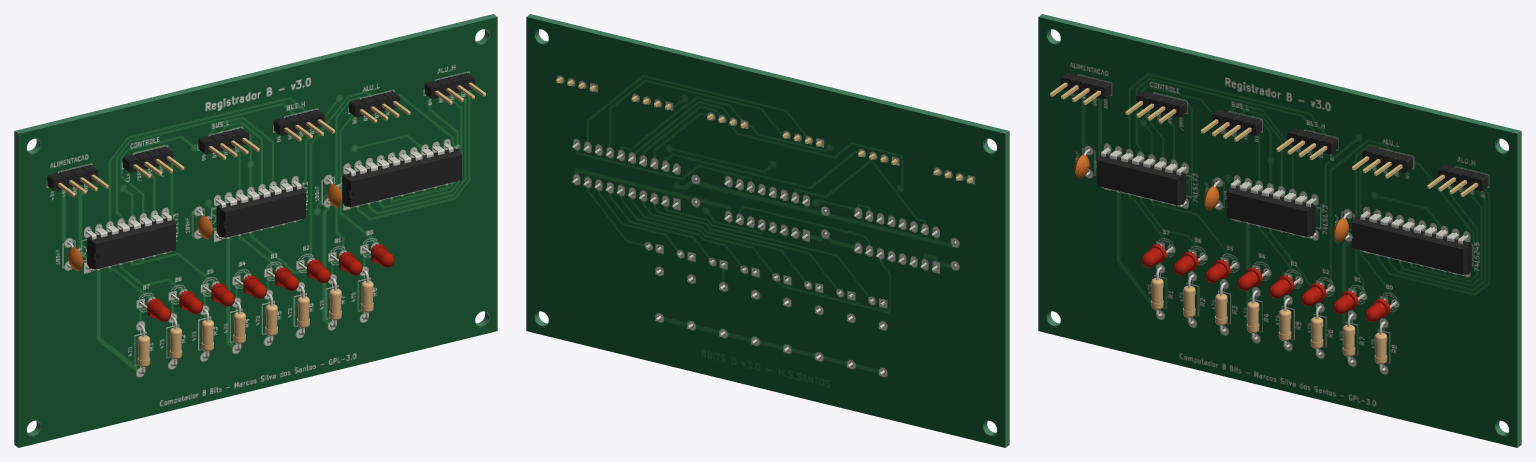
File: b-registrador-b.glb
3 renders of one model, left to right at view 1: azimuth 30°, elevation 25°; view 2: azimuth 150°, elevation 25°; view 3: azimuth 330°, elevation 25°, orthographic.
Parts seen in each view (by area): view 1: superficie_topo, =>[0:1:1:14], =>[0:1:1:13]_7f3d19, =>[0:1:1:11]_1_7640c4, =>[0:1:1:11]_a766ff, =>[0:1:1:13]_e5a8c2, =>[0:1:1:9]_5_08657e, =>[0:1:1:9]_4, =>[0:1:1:9]_3_fc504c, =>[0:1:1:9]_39ac04, =>[0:1:1:9]_1_48d188, =>[0:1:1:9]_2_81cafa (+2 smaller); view 2: superficie_fundo, =>[0:1:1:14]; view 3: superficie_topo, =>[0:1:1:14], =>[0:1:1:13]_7f3d19, =>[0:1:1:11]_1_7640c4, =>[0:1:1:11]_a766ff, =>[0:1:1:13]_e5a8c2, =>[0:1:1:9]_2_81cafa, =>[0:1:1:9]_1_48d188, =>[0:1:1:9]_39ac04, =>[0:1:1:9]_4, =>[0:1:1:9]_3_fc504c, =>[0:1:1:9]_5_08657e (+2 smaller).
Boxes of the visible parts, x1,y1,x2,y2 form: superficie_topo: [18, 17, 497, 447]; =>[0:1:1:14]: [14, 14, 496, 447]; =>[0:1:1:13]_7f3d19: [342, 148, 461, 207]; =>[0:1:1:11]_1_7640c4: [216, 186, 305, 237]; =>[0:1:1:11]_a766ff: [87, 218, 175, 269]; =>[0:1:1:13]_e5a8c2: [345, 143, 453, 207]; =>[0:1:1:9]_5_08657e: [424, 72, 475, 99]; =>[0:1:1:9]_4: [122, 146, 173, 172]; =>[0:1:1:9]_3_fc504c: [273, 109, 324, 135]; =>[0:1:1:9]_39ac04: [47, 165, 98, 191]; =>[0:1:1:9]_1_48d188: [349, 91, 399, 117]; =>[0:1:1:9]_2_81cafa: [198, 128, 248, 154]; superficie_fundo: [526, 17, 1005, 447]; =>[0:1:1:14]: [527, 14, 1009, 447]; superficie_topo: [1038, 17, 1517, 447]; =>[0:1:1:14]: [1039, 14, 1521, 447]; =>[0:1:1:13]_7f3d19: [1352, 216, 1471, 274]; =>[0:1:1:11]_1_7640c4: [1226, 186, 1315, 236]; =>[0:1:1:11]_a766ff: [1097, 154, 1185, 205]; =>[0:1:1:13]_e5a8c2: [1360, 210, 1468, 275]; =>[0:1:1:9]_2_81cafa: [1211, 109, 1262, 135]; =>[0:1:1:9]_1_48d188: [1362, 146, 1413, 172]; =>[0:1:1:9]_39ac04: [1060, 72, 1111, 99]; =>[0:1:1:9]_4: [1136, 91, 1186, 117]; =>[0:1:1:9]_3_fc504c: [1287, 128, 1337, 154]; =>[0:1:1:9]_5_08657e: [1438, 165, 1488, 191].
Size of the model in its own units: 0.1095 by 0.0686 by 0.0118.
Materials: 8 (2 with a texture image).
